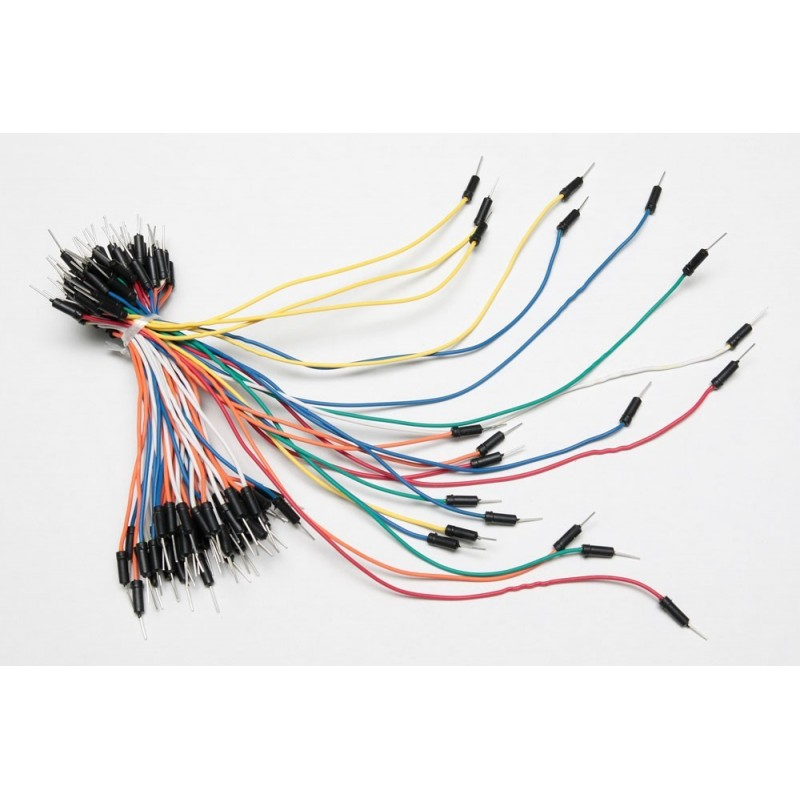Nonrec_Tangler: (17, 155, 777, 621)
